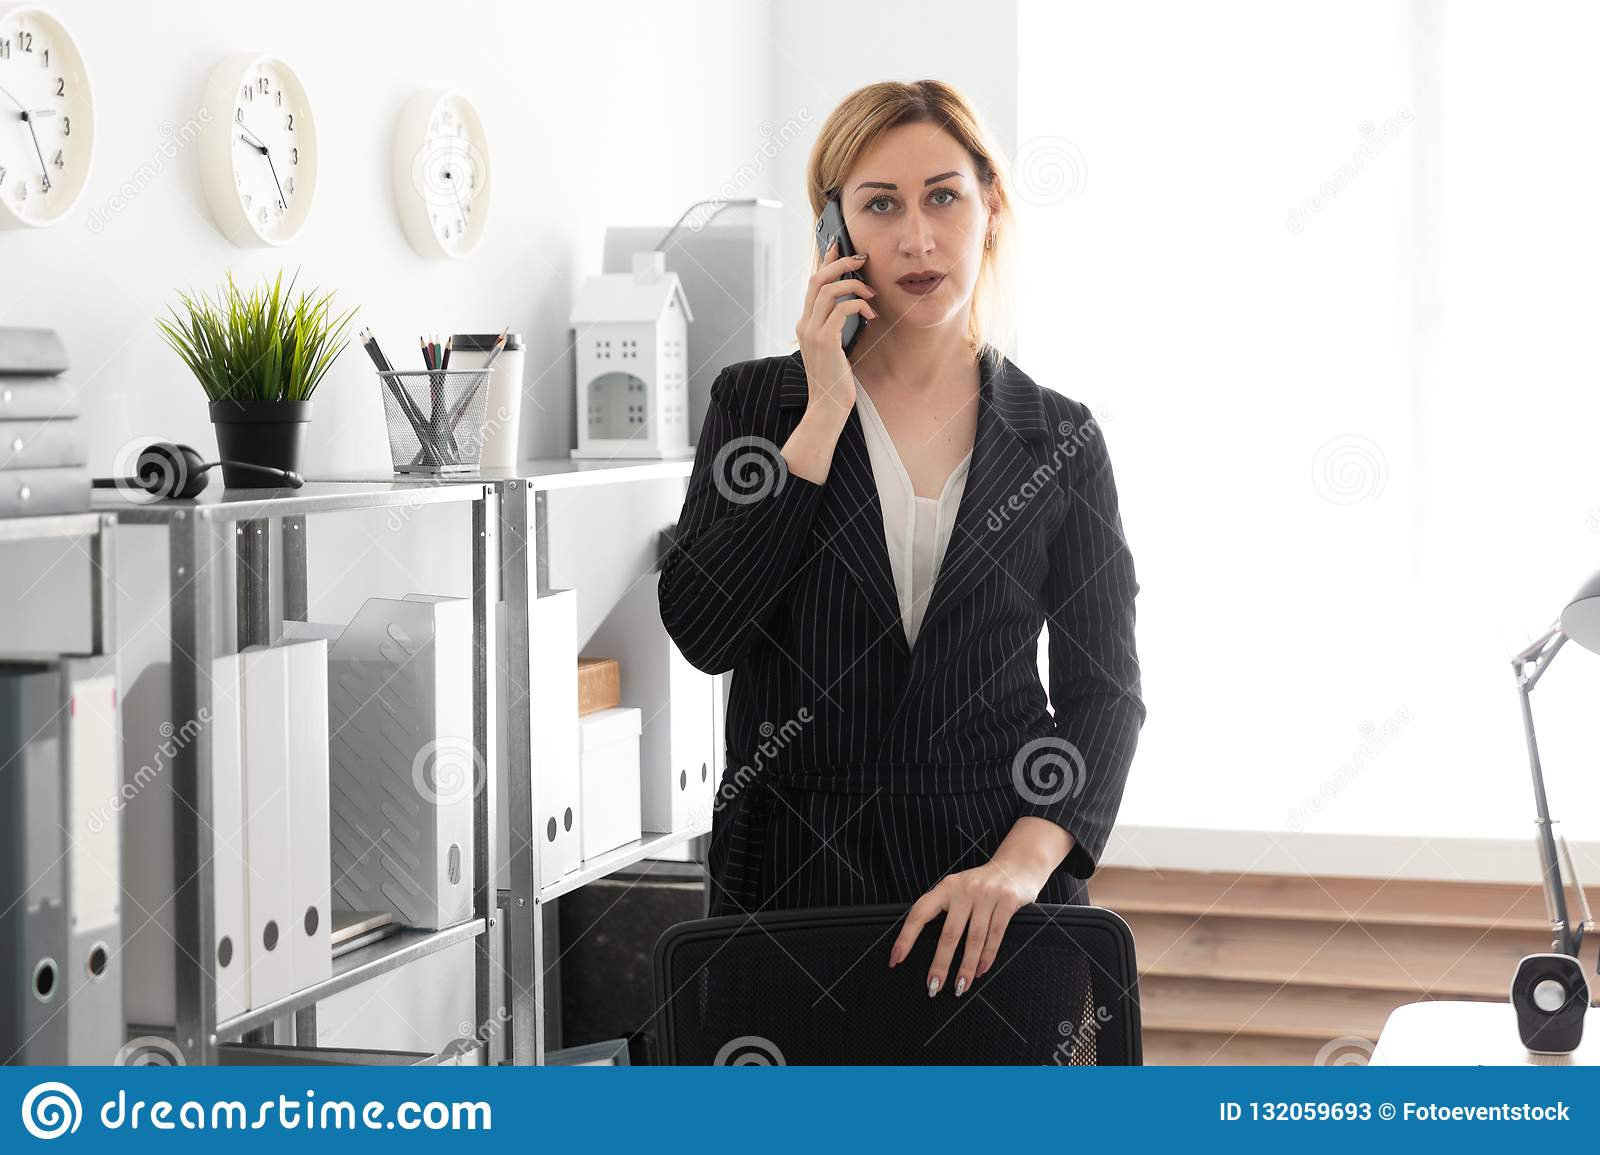phone: (793, 219, 880, 363)
talk: (783, 160, 979, 401)
